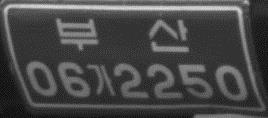0: (213, 62, 249, 103), (24, 59, 58, 98)
2: (145, 61, 182, 101), (111, 62, 148, 99)
5: (176, 61, 214, 100)
6: (56, 60, 92, 100)
가: (86, 61, 117, 97)
부산_D: (53, 15, 191, 55)
